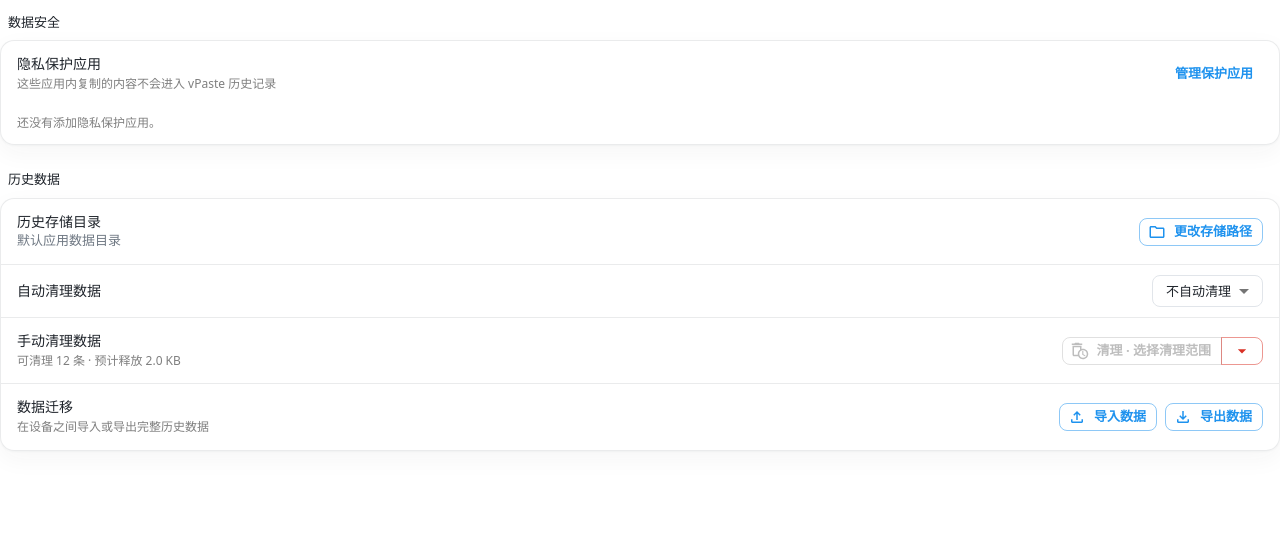
Test case: Automatic history cleanup › reports estimate failures without applying the policy
Click the dropdown named "自动清理数据" at (1198, 291), box left=1166, top=282, right=1231, bottom=300
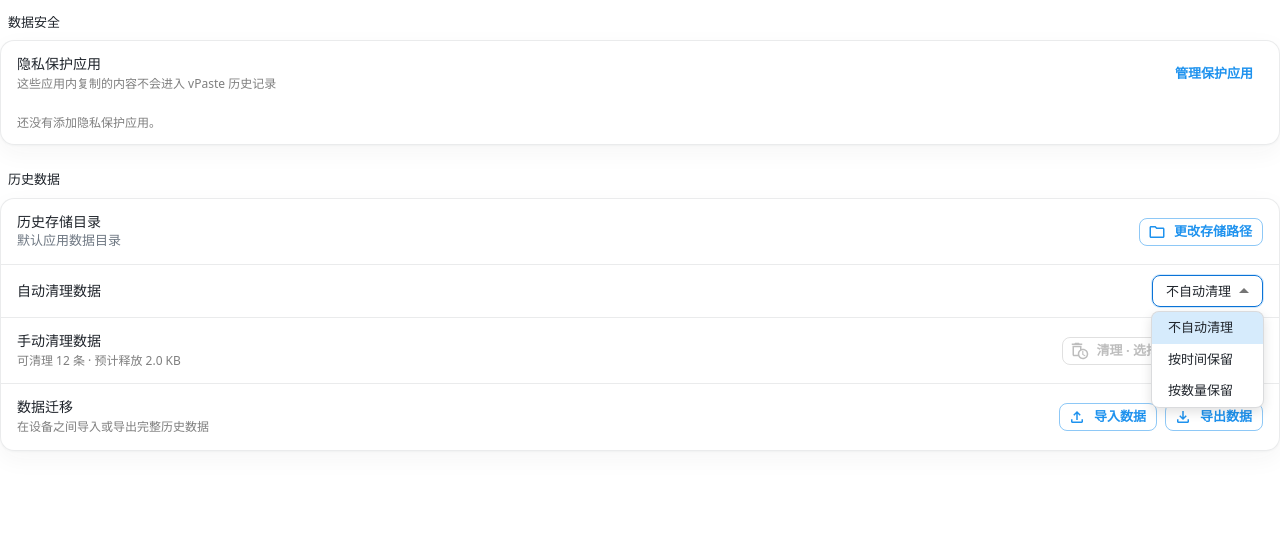
Click the option "按时间保留" at (1200, 358), box left=1168, top=350, right=1233, bottom=368
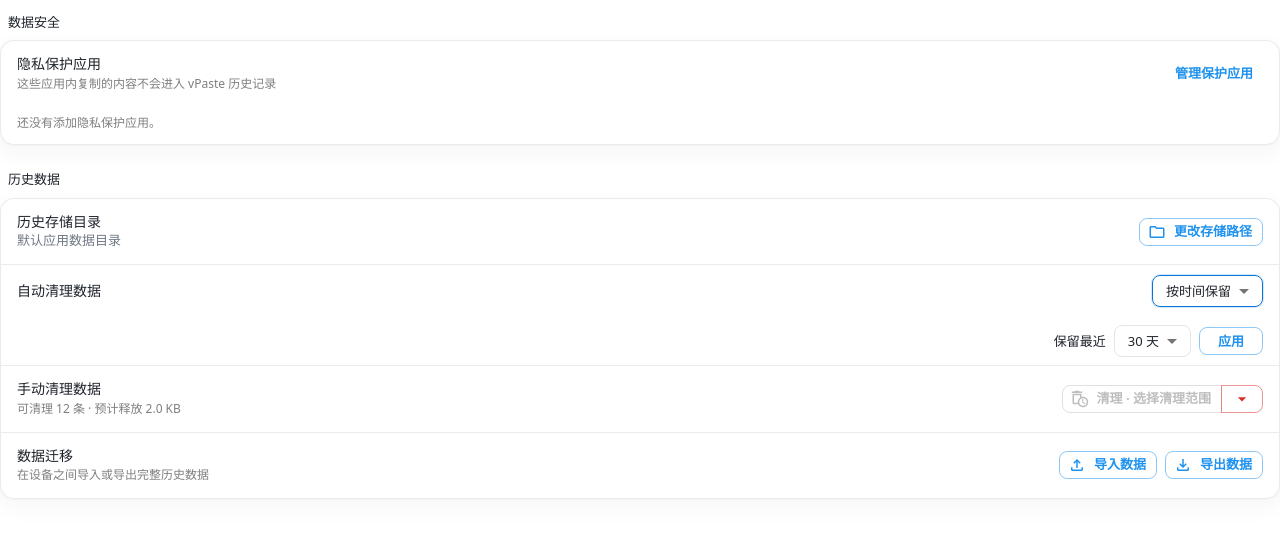
Click the button "应用" at (1231, 341), box left=1199, top=327, right=1263, bottom=355
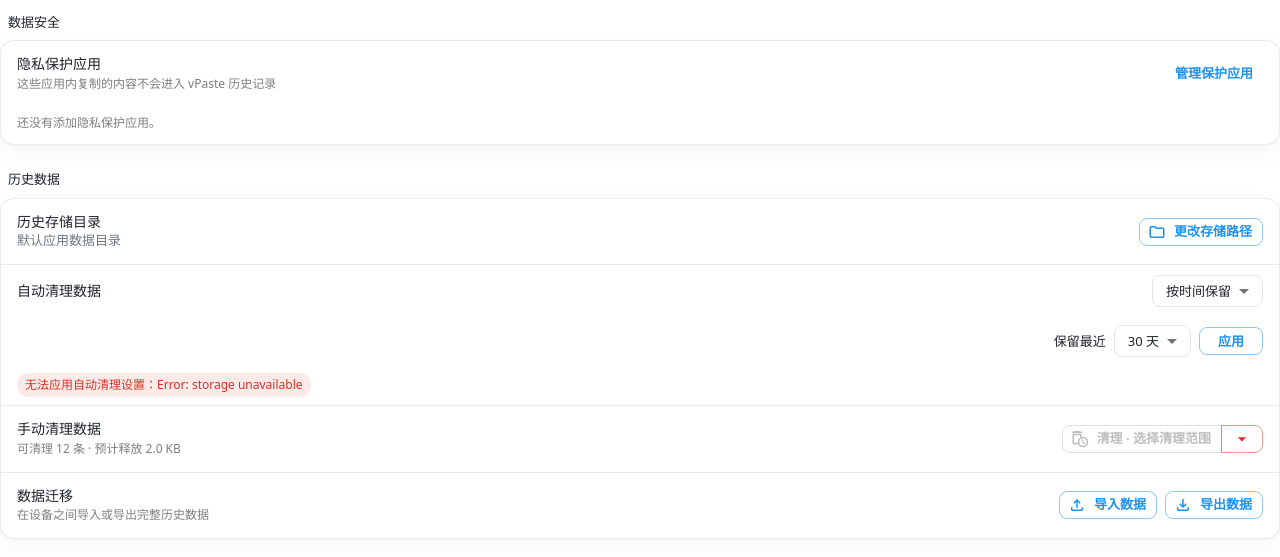
Check: the text "无法应用自动清理设置：Error: storage unavailable" is shown, box left=25, top=378, right=302, bottom=394
